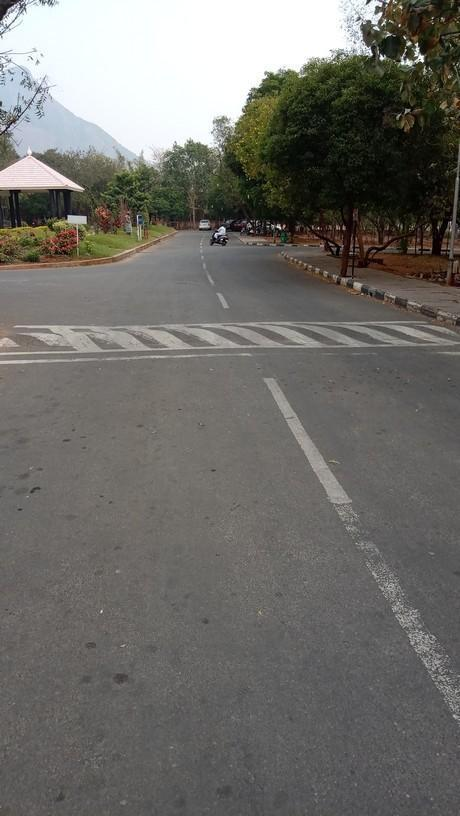speedbreaker: (2, 308, 456, 373)
